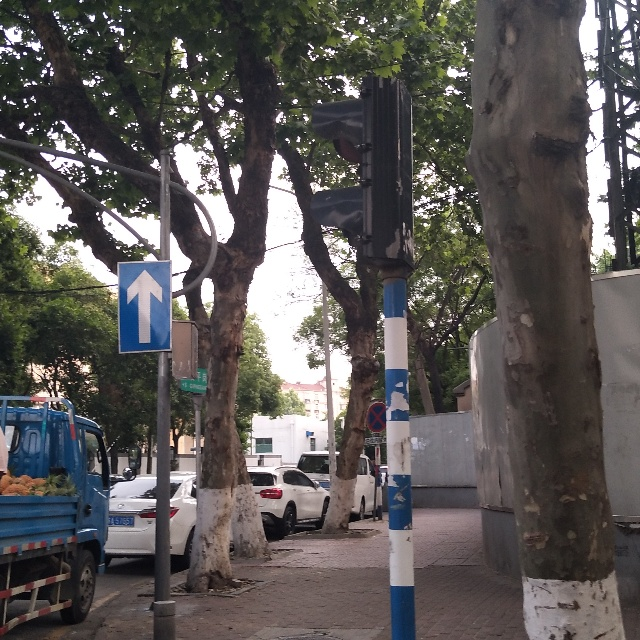stop: (366, 403, 387, 432)
straight: (120, 263, 168, 351)
